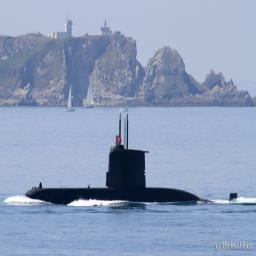submarine: (27, 147, 237, 203)
